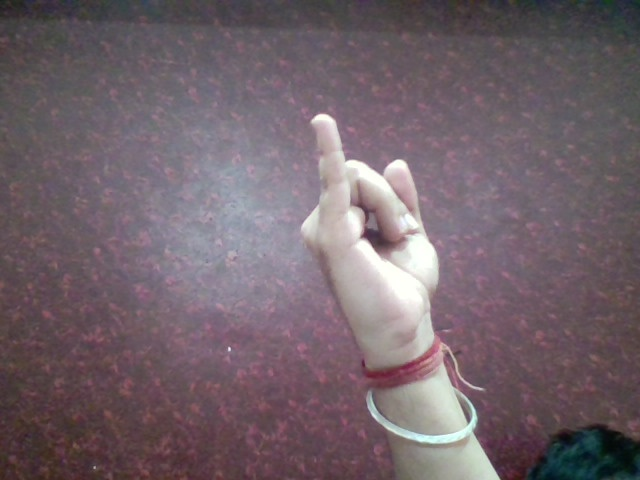j: (280, 103, 480, 342)
